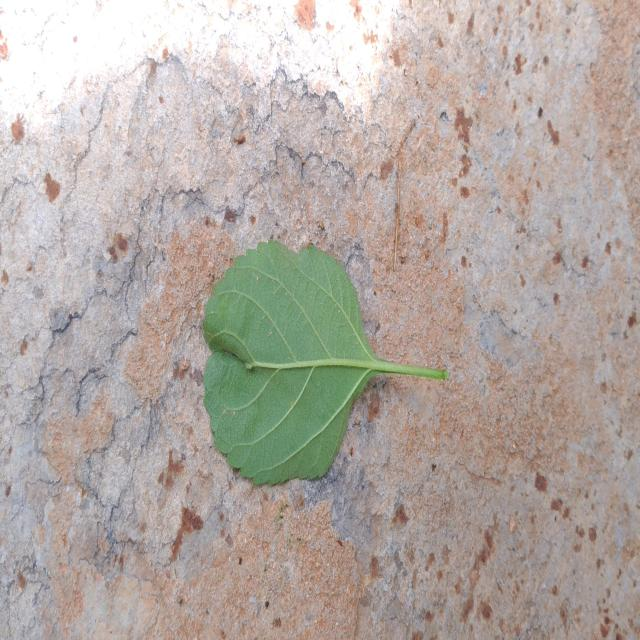Lantana: (204, 240, 448, 484)
